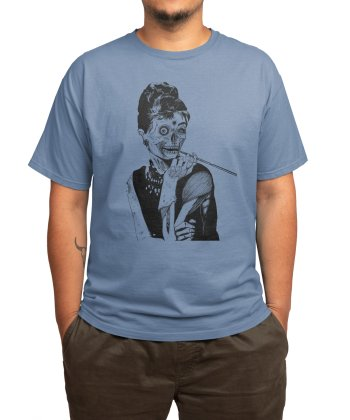design: (120, 78, 240, 244)
